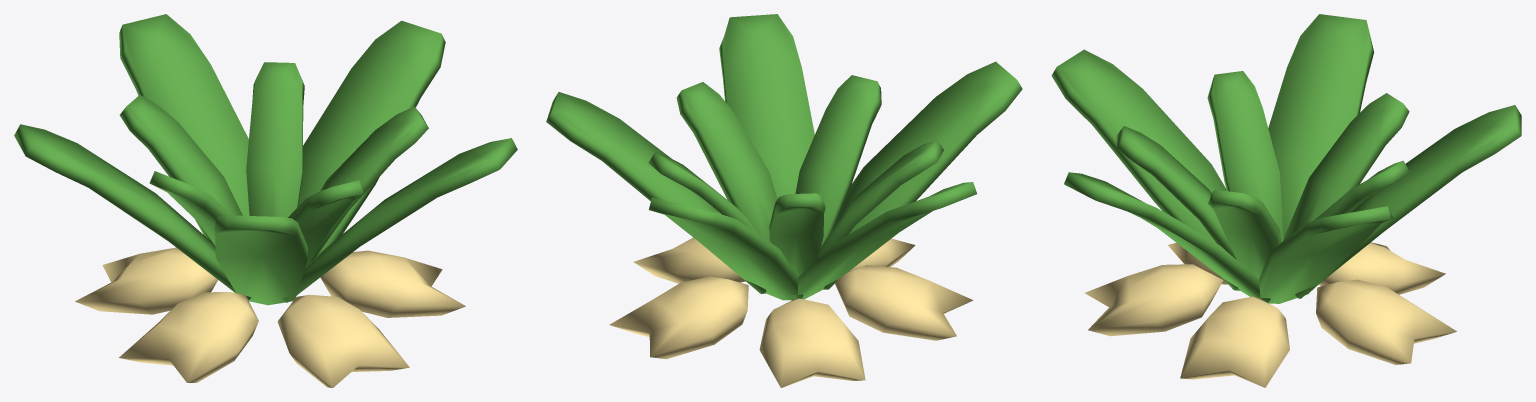
File: C_Mandragore_p3.fbx
The picture shows the model from 3 angles, left to right: view 1: azimuth 30°, elevation 25°; view 2: azimuth 150°, elevation 25°; view 3: azimuth 270°, elevation 25°; orthographic projection. The views are drawn at different scales.
Parts seen in each view (by area): view 1: Mandr_3; view 2: Mandr_3; view 3: Mandr_3.
Boxes of the visible parts, bbox=[...] form: Mandr_3: bbox=[14, 14, 517, 387]; Mandr_3: bbox=[546, 14, 1022, 387]; Mandr_3: bbox=[1051, 14, 1521, 387].
Bounding box in the file's own units: 126 × 59.37 × 122.
